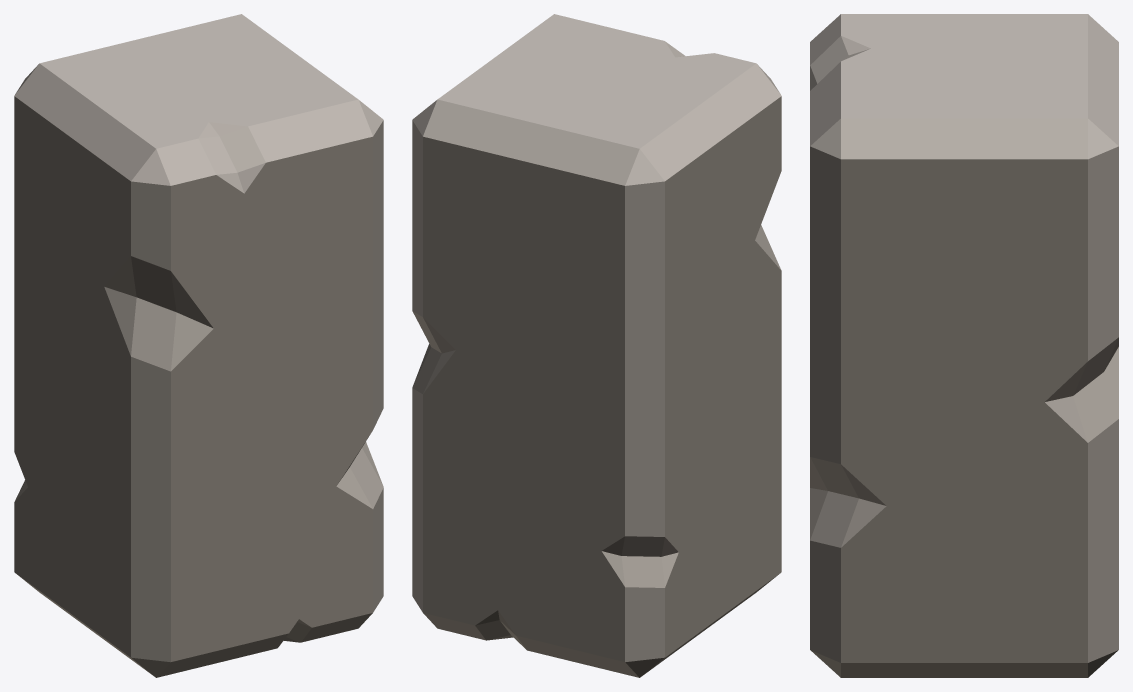
File: m_kub_stone_vrick.FBX
3 views of the same model, side by side, from view 1: azimuth 30°, elevation 25°; view 2: azimuth 150°, elevation 25°; view 3: azimuth 270°, elevation 25° (orthographic). The views are drawn at different scales.
Visible parts, largest first — view 1: m_kub_stone_vrick; view 2: m_kub_stone_vrick; view 3: m_kub_stone_vrick.
Part boxes in pixels (bbox=[...]): m_kub_stone_vrick: bbox=[14, 14, 383, 677]; m_kub_stone_vrick: bbox=[412, 14, 781, 677]; m_kub_stone_vrick: bbox=[810, 14, 1118, 677].
Size of the model in its own units: 1 by 2 by 1.
